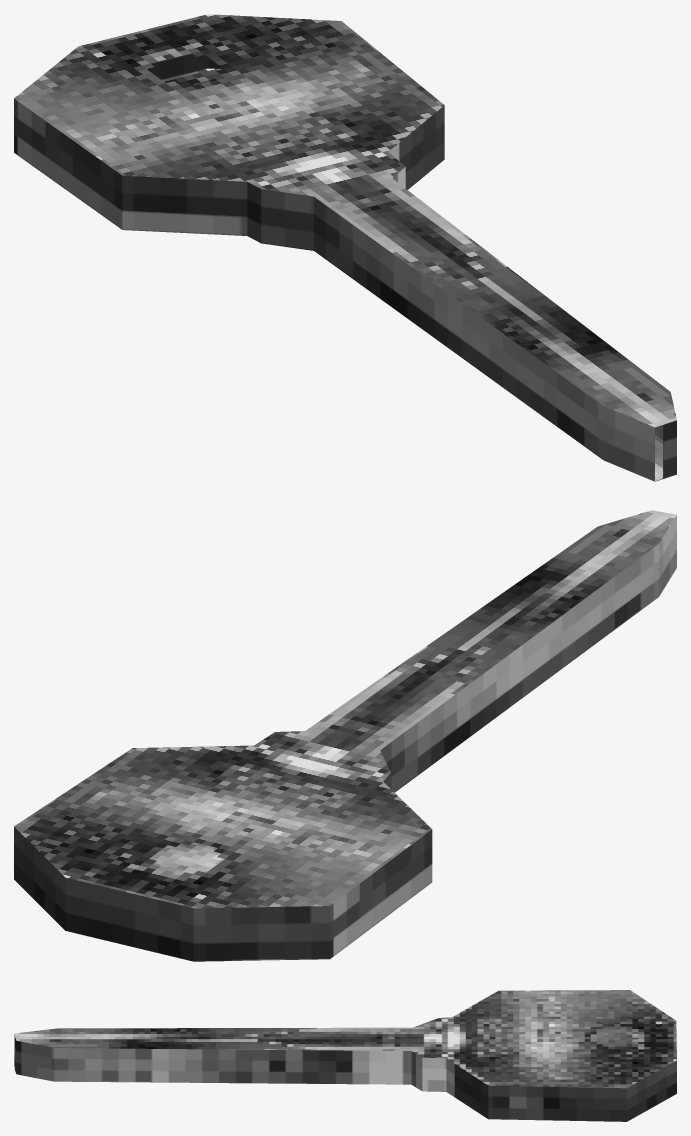
Rendered from LlaveBodega.fbx.
The picture shows the model from 3 angles, top to bottom: view 1: azimuth 30°, elevation 25°; view 2: azimuth 150°, elevation 25°; view 3: azimuth 270°, elevation 25°; orthographic projection. The views are drawn at different scales.
Visible parts, largest first — view 1: Plane.001; view 2: Plane.001; view 3: Plane.001.
Part boxes in pixels (box(x1,y1,x2,y2)): Plane.001: box(14, 14, 676, 481); Plane.001: box(14, 510, 676, 961); Plane.001: box(14, 990, 676, 1121).
Bounding box in the file's own units: 62.61 × 10 × 179.
1 material, 1 textured.
